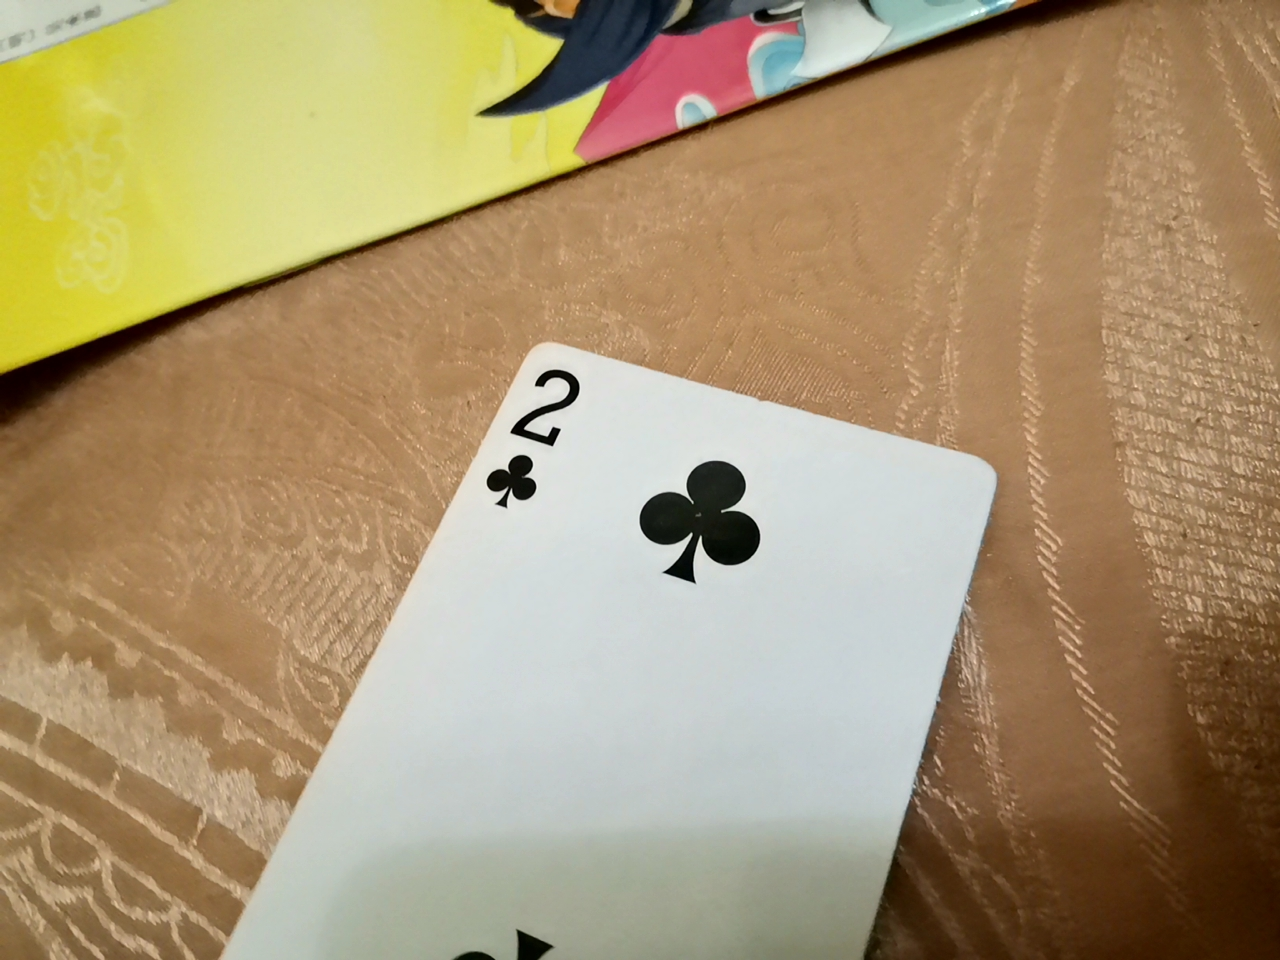mh 2: (196, 330, 1012, 949)
